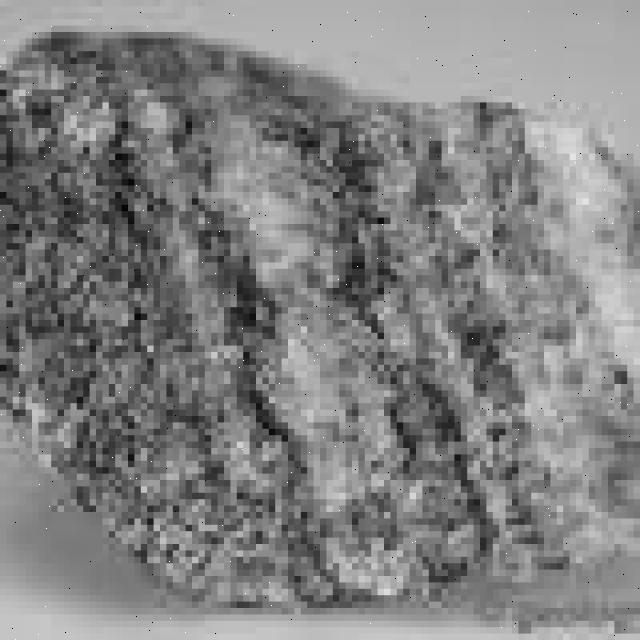Metamorphic: (6, 26, 634, 608)
